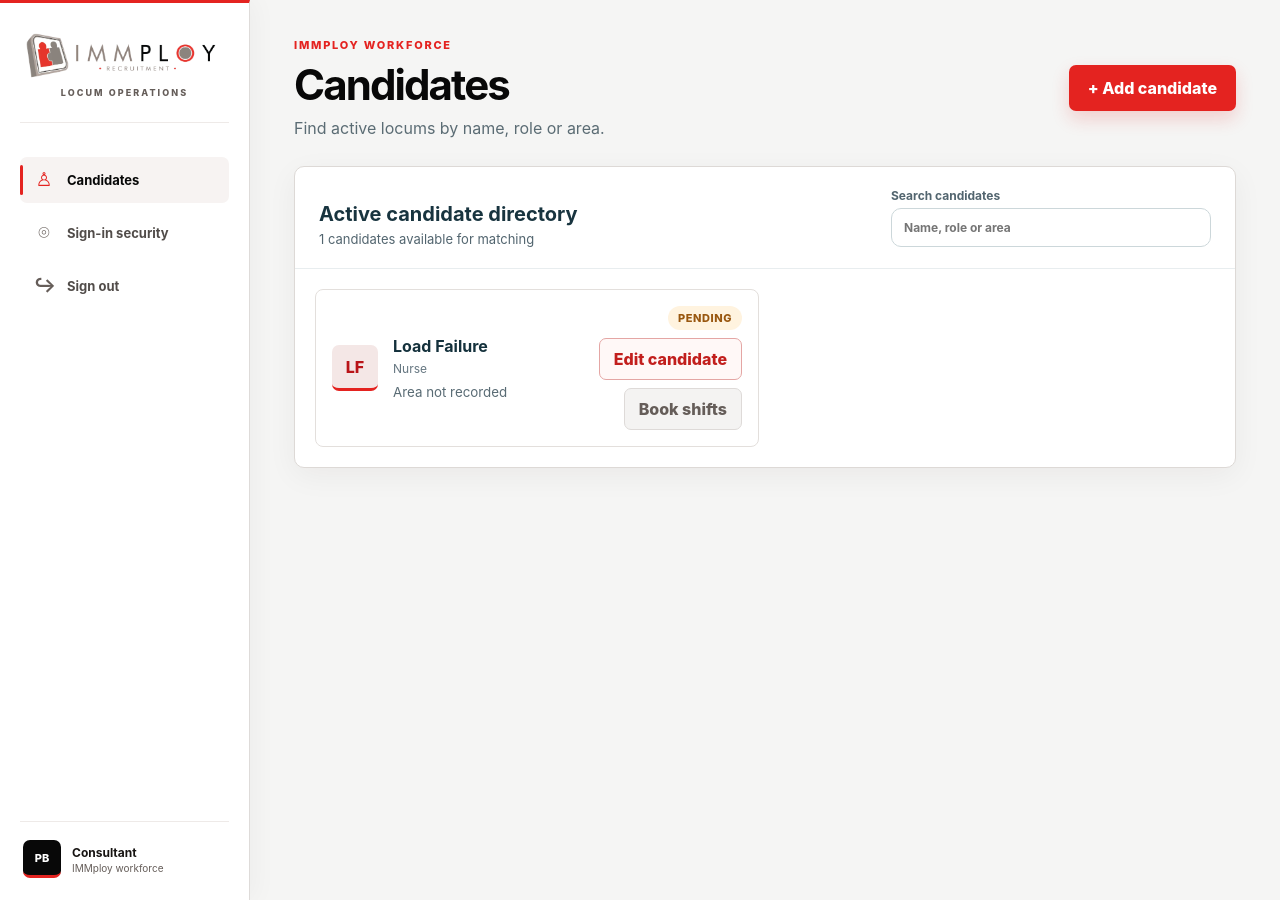
Scenario: Candidate profile editing › keeps save disabled when the restricted profile fails to load
Click the button with aria-label "Edit Load Failure": (670, 359) [599,338,742,380]
(page scrolled)
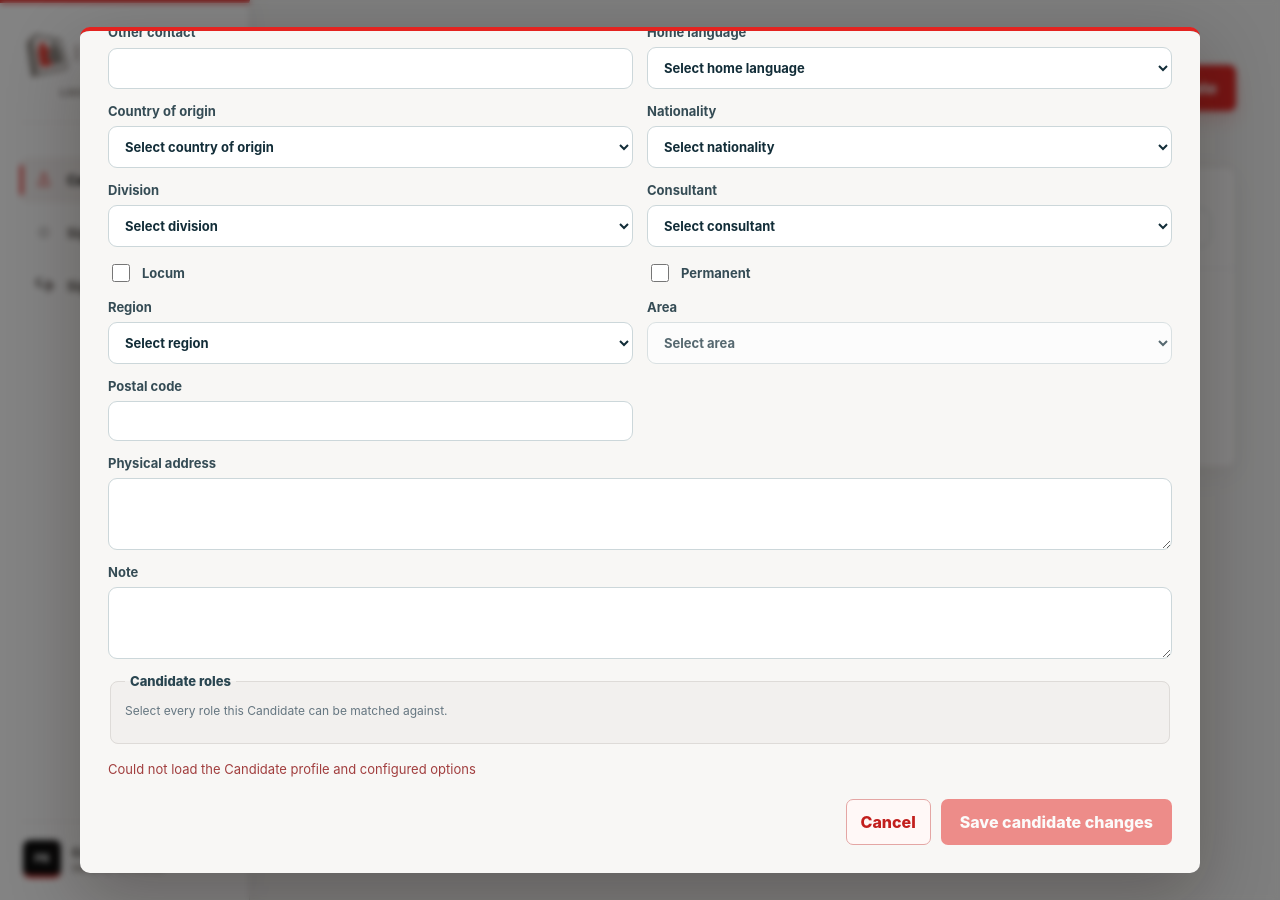
Expected: the button "Save candidate changes" is disabled, [941,799,1172,845]
